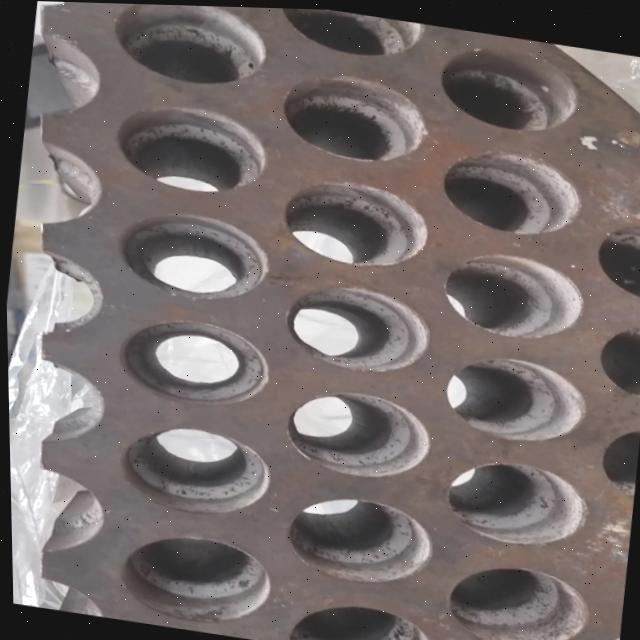Hole: (111, 414, 274, 522), (112, 523, 273, 630), (109, 93, 271, 199), (111, 202, 272, 307), (110, 309, 273, 411), (275, 63, 434, 166), (275, 169, 433, 272), (277, 486, 435, 588), (436, 448, 592, 551), (279, 380, 433, 483), (438, 344, 591, 447), (435, 241, 588, 343), (433, 137, 585, 239), (280, 274, 432, 376), (106, 2, 272, 92), (432, 39, 582, 136), (439, 552, 590, 640), (274, 6, 426, 61), (282, 592, 434, 640), (587, 212, 640, 296), (590, 313, 640, 395), (592, 418, 640, 496)
